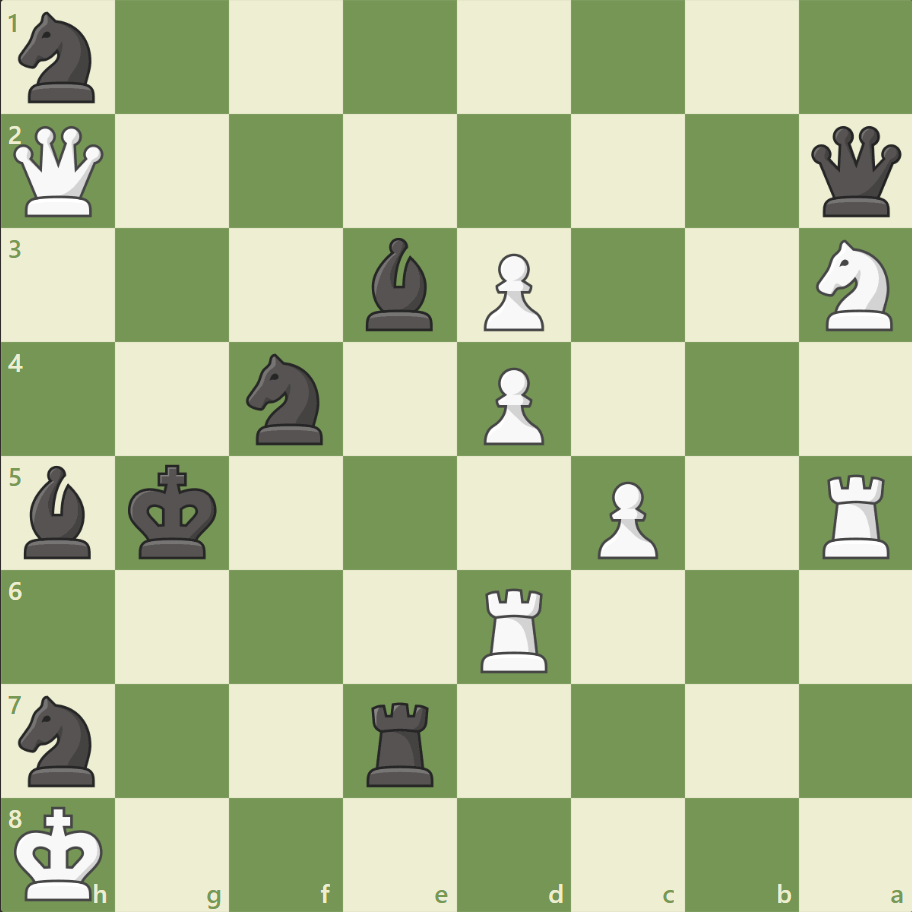K: (11, 798, 111, 906)
N: (806, 234, 903, 337)
P: (474, 359, 549, 450), (474, 246, 549, 337), (588, 473, 662, 564)
Q: (10, 122, 109, 222)
R: (473, 579, 556, 676), (814, 466, 897, 563)
b: (17, 460, 101, 563), (358, 233, 442, 336)
k: (124, 458, 224, 566)
n: (11, 688, 108, 791), (11, 7, 108, 110), (238, 348, 335, 450)
q: (805, 122, 904, 222)
r: (360, 693, 442, 790)
